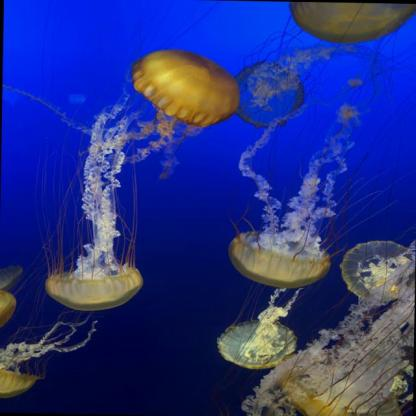jellyfish: (129, 49, 241, 132), (276, 350, 414, 415), (290, 1, 416, 48), (227, 230, 331, 286), (230, 58, 306, 130), (42, 257, 143, 309), (216, 316, 305, 367), (342, 240, 416, 301), (0, 362, 46, 399), (0, 290, 20, 336), (0, 260, 25, 290)
